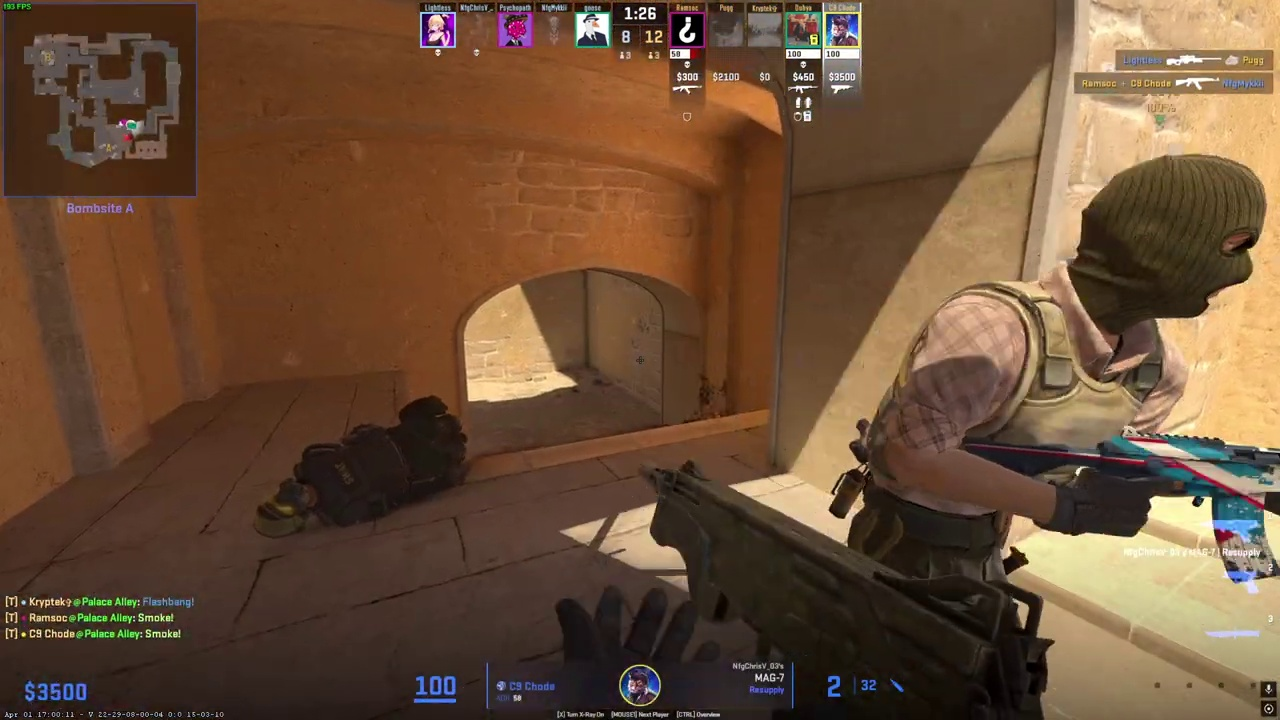Terrorist: (854, 155, 1264, 704)
